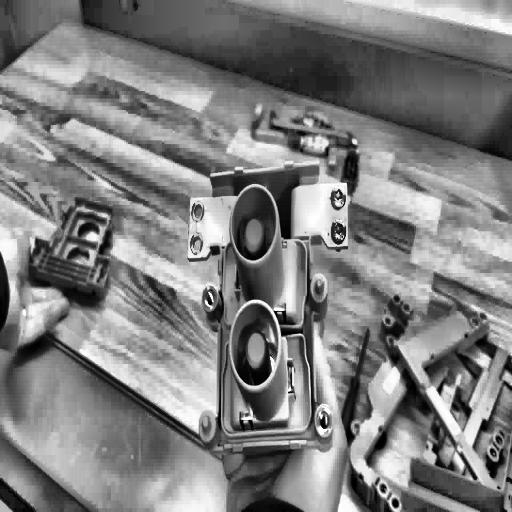busbar: (199, 179, 338, 453)
